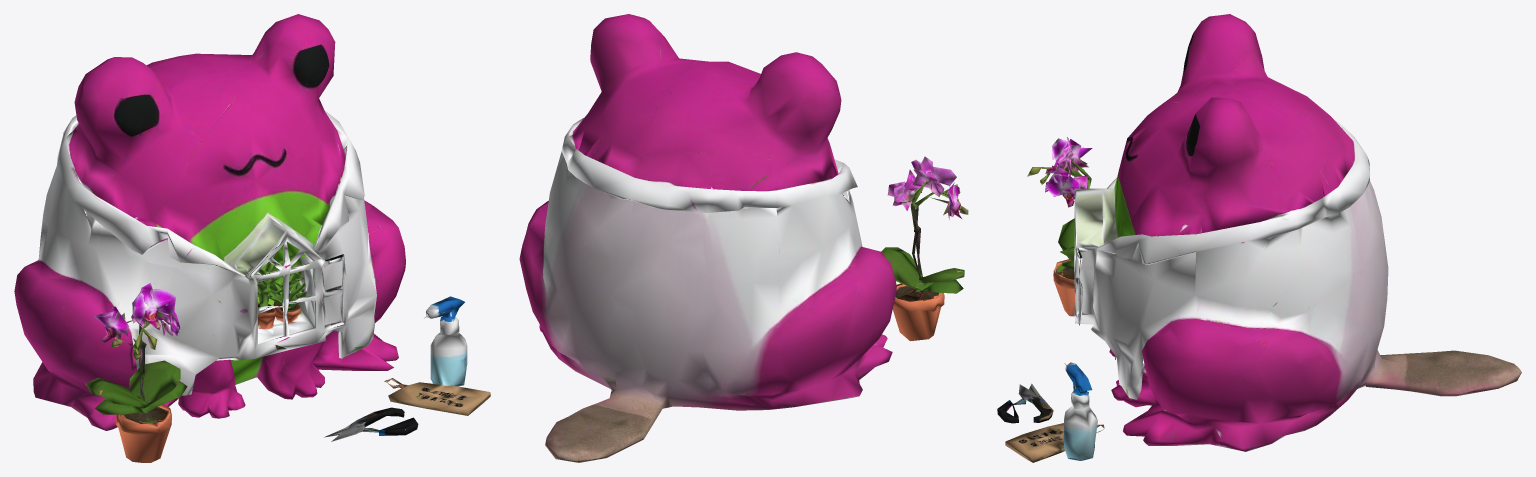
Rendered from orchidophile.glb.
3 renders of one model, left to right at view 1: azimuth 30°, elevation 25°; view 2: azimuth 150°, elevation 25°; view 3: azimuth 270°, elevation 25°, orthographic. The views are drawn at different scales.
Parts seen in each view (by area): view 1: mesh_node; view 2: mesh_node; view 3: mesh_node.
Part boxes in pixels (x1,y1,x2,y2): mesh_node: (14, 14, 490, 462); mesh_node: (519, 14, 968, 462); mesh_node: (997, 14, 1521, 462).
Bounding box in the file's own units: 1.51 × 1.27 × 1.9.
1 material, 1 textured.
